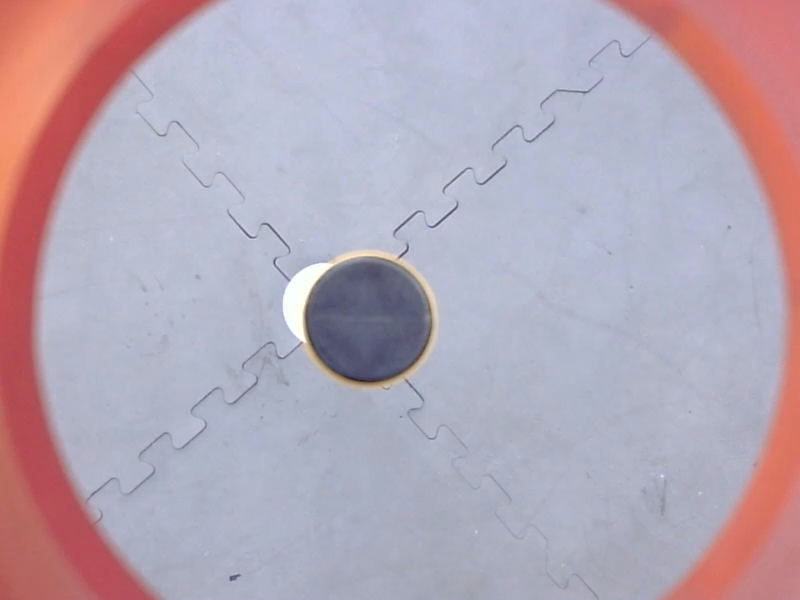tip: (295, 244, 450, 400)
